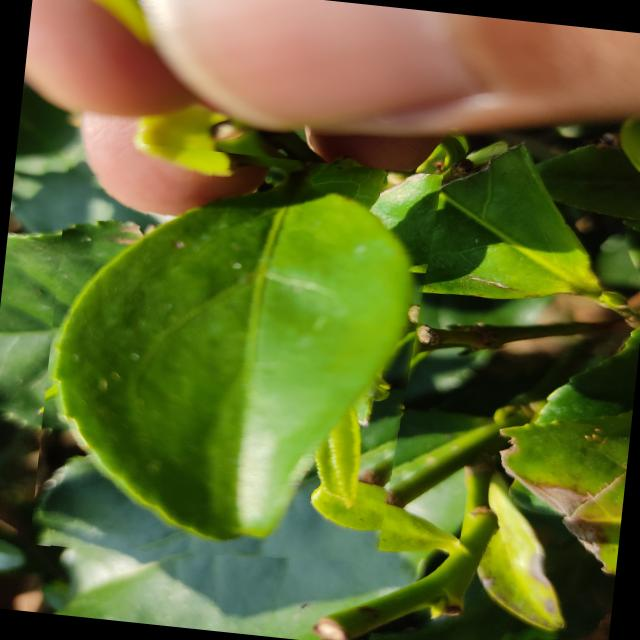Category C 4-7 days: (29, 135, 444, 584)
